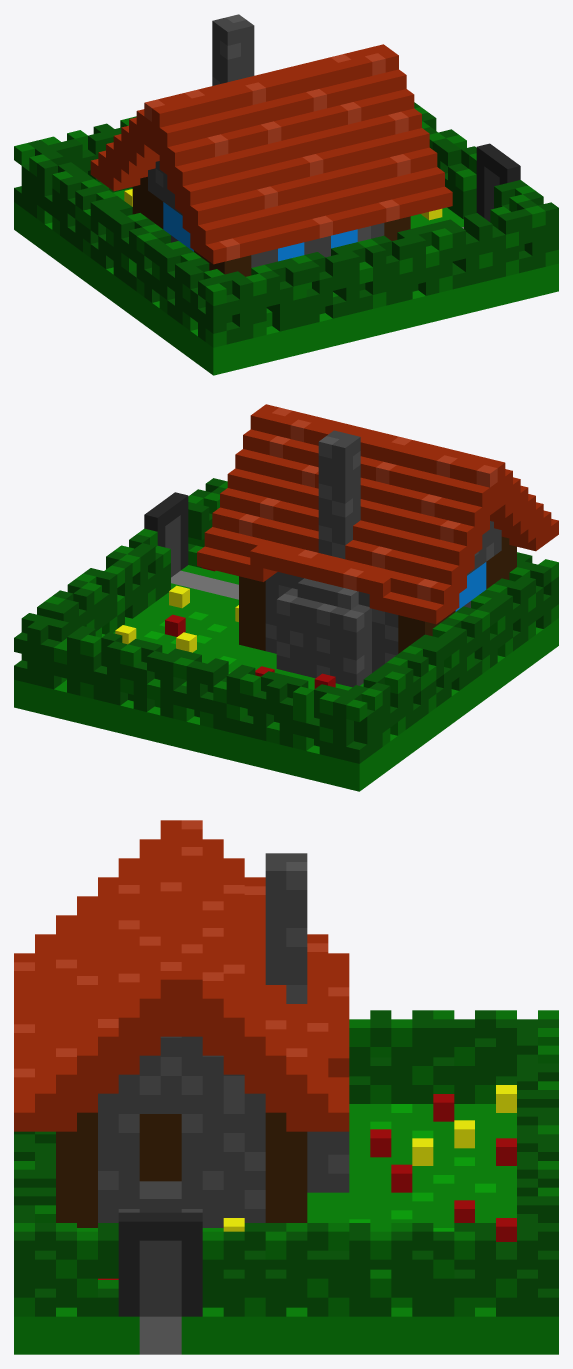
Rendered from house2.obj.
The picture shows the model from 3 angles, top to bottom: view 1: azimuth 30°, elevation 25°; view 2: azimuth 150°, elevation 25°; view 3: azimuth 270°, elevation 25°; orthographic projection. The views are drawn at different scales.
Bounding box in the file's own units: 2.6 × 1.8 × 2.6.
Materials: 1 (1 with a texture image).
